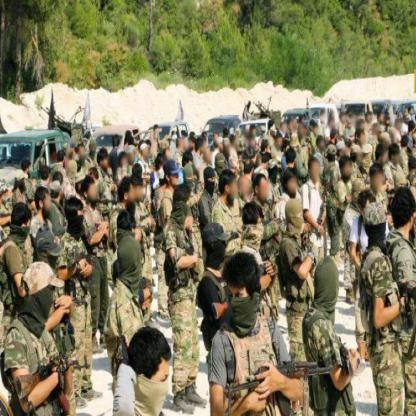rifle: (220, 357, 336, 414), (14, 352, 96, 415)
